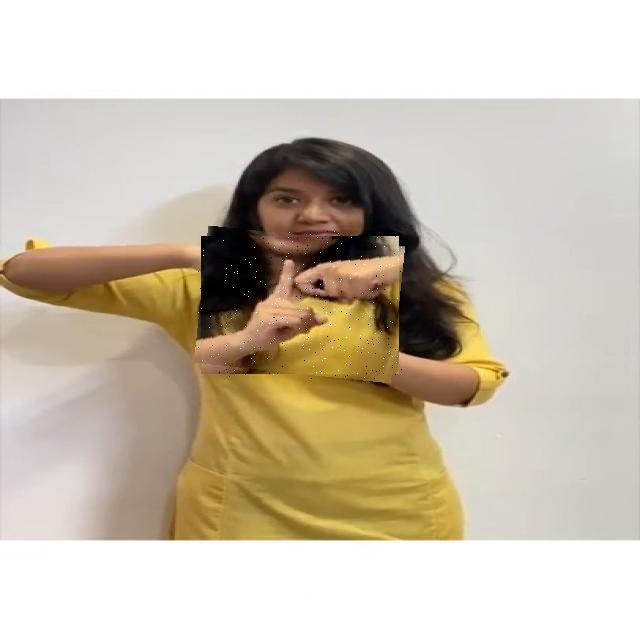K: (198, 231, 402, 379)
